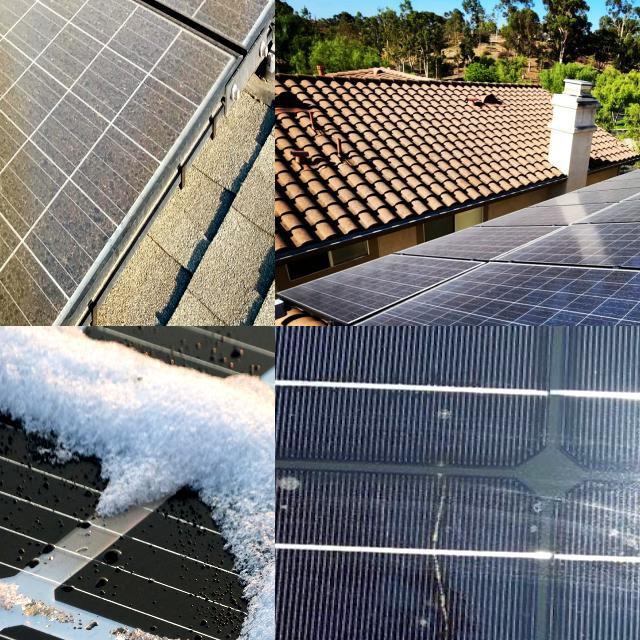dust: (0, 2, 152, 199), (398, 272, 638, 326), (64, 0, 275, 54), (0, 0, 80, 54)
panel: (0, 326, 228, 504), (69, 326, 275, 385)
shadow: (388, 452, 477, 640)
